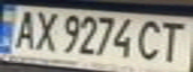2: (75, 11, 100, 56)
4: (112, 15, 139, 60)
7: (93, 12, 118, 57)
9: (57, 10, 81, 55)
A: (9, 7, 42, 51)
C: (133, 17, 169, 62)
T: (154, 18, 190, 64)
X: (30, 8, 60, 52)
